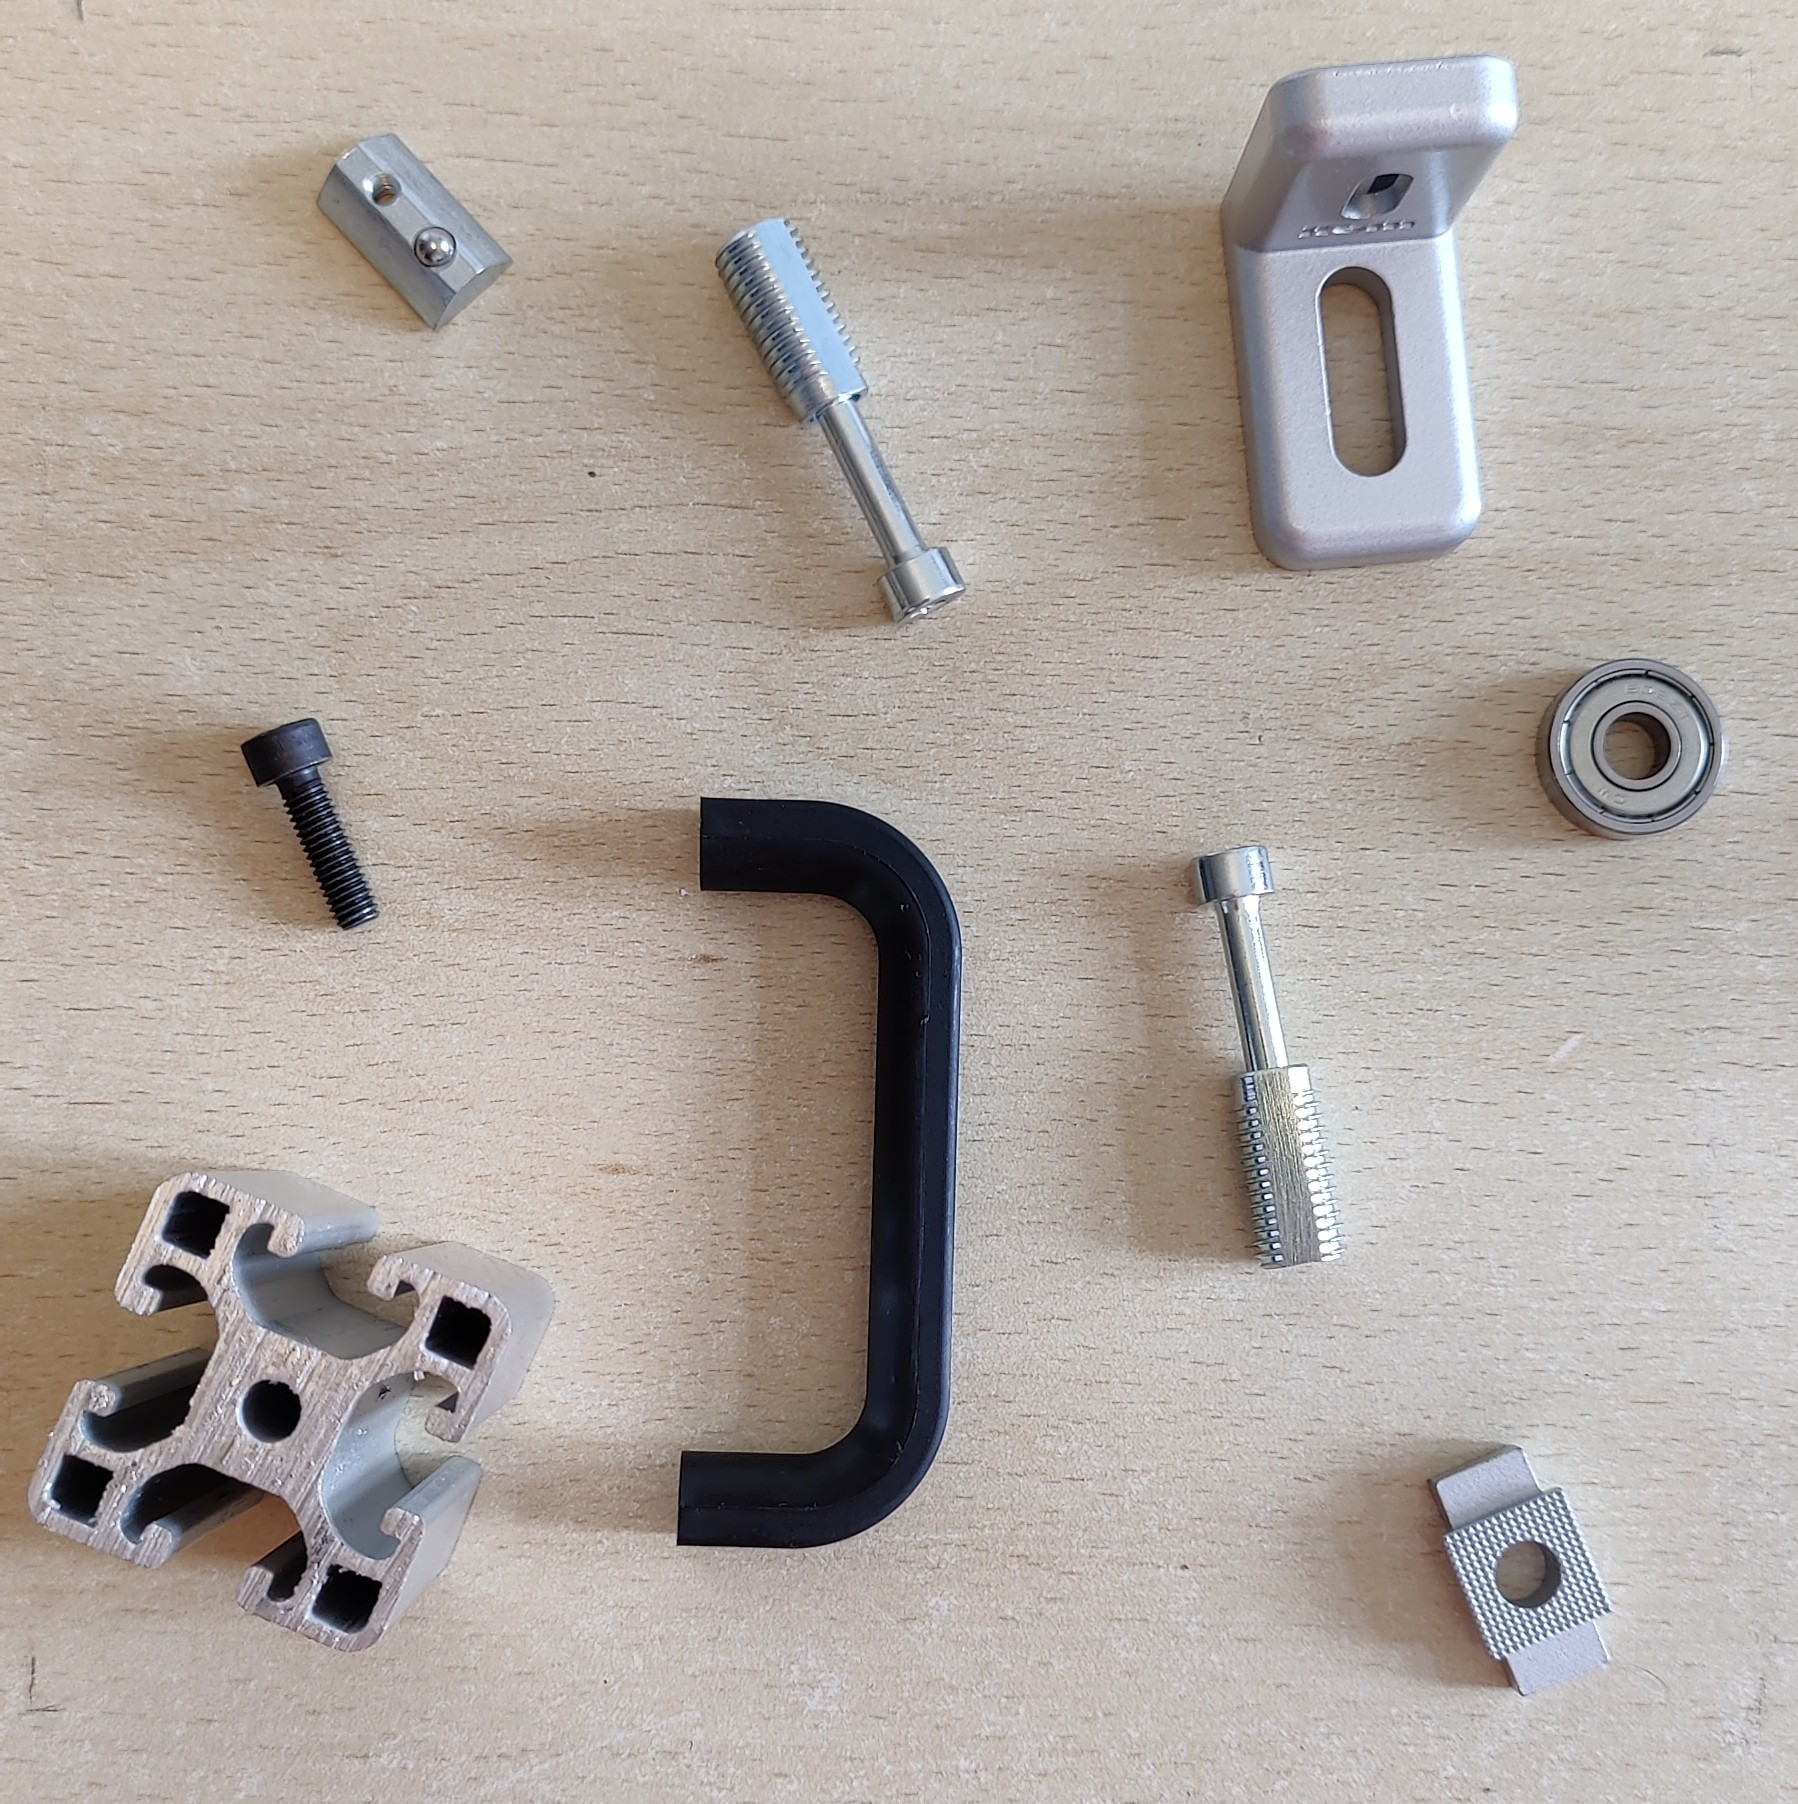Aluminium Extension: (25, 1167, 557, 1654)
Ball Bearing: (1531, 657, 1726, 843)
Multiwinkel: (1217, 53, 1521, 574)
Pull Handle: (673, 797, 967, 1551)
Shoulder Socket Head Cap Screw: (713, 214, 967, 627), (1184, 841, 1350, 1272)
Socket Head Cap Screw: (239, 714, 382, 932)
T Nut Square: (1426, 1440, 1615, 1699)
T Spring Nut: (314, 132, 515, 337)
